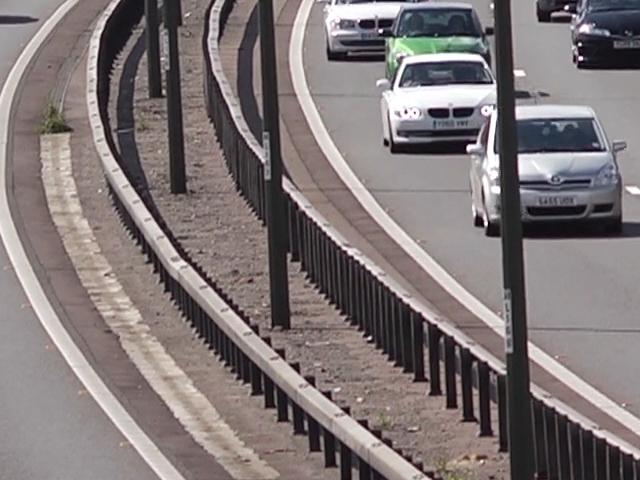car: (467, 102, 625, 233), (378, 50, 535, 147), (377, 0, 494, 70), (320, 0, 440, 60), (556, 0, 640, 68), (523, 0, 640, 20)
